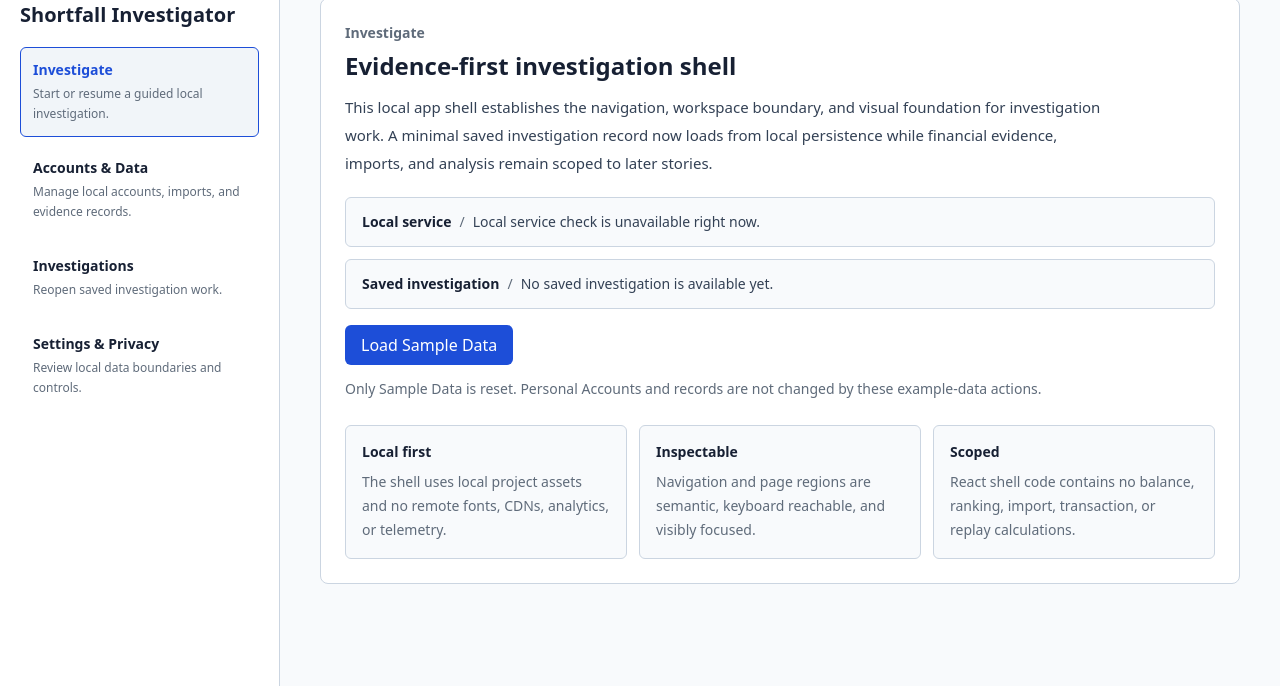
Test: Shortfall Investigator app shell › offers Sample Data loading from the empty Investigate state
The image size is (1280, 686).
Click the button "Load Sample Data". click: (429, 345)
box: x1=345 y1=325 x2=513 y2=365
(page scrolled)
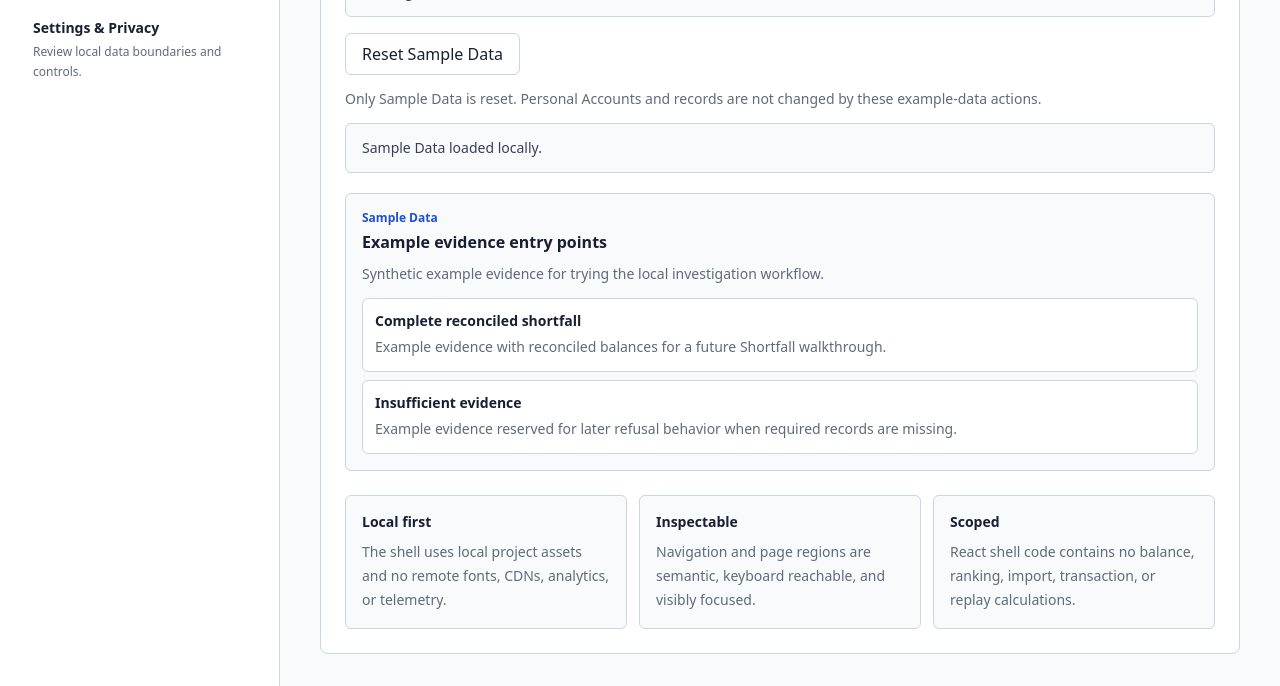
Check: the text "Sample Data" is shown, box x1=362 y1=209 x2=438 y2=226
Check: the text "Complete reconciled shortfall" is shown, box x1=375 y1=311 x2=581 y2=330
Check: the text "Insufficient evidence" is shown, box x1=375 y1=393 x2=522 y2=412
